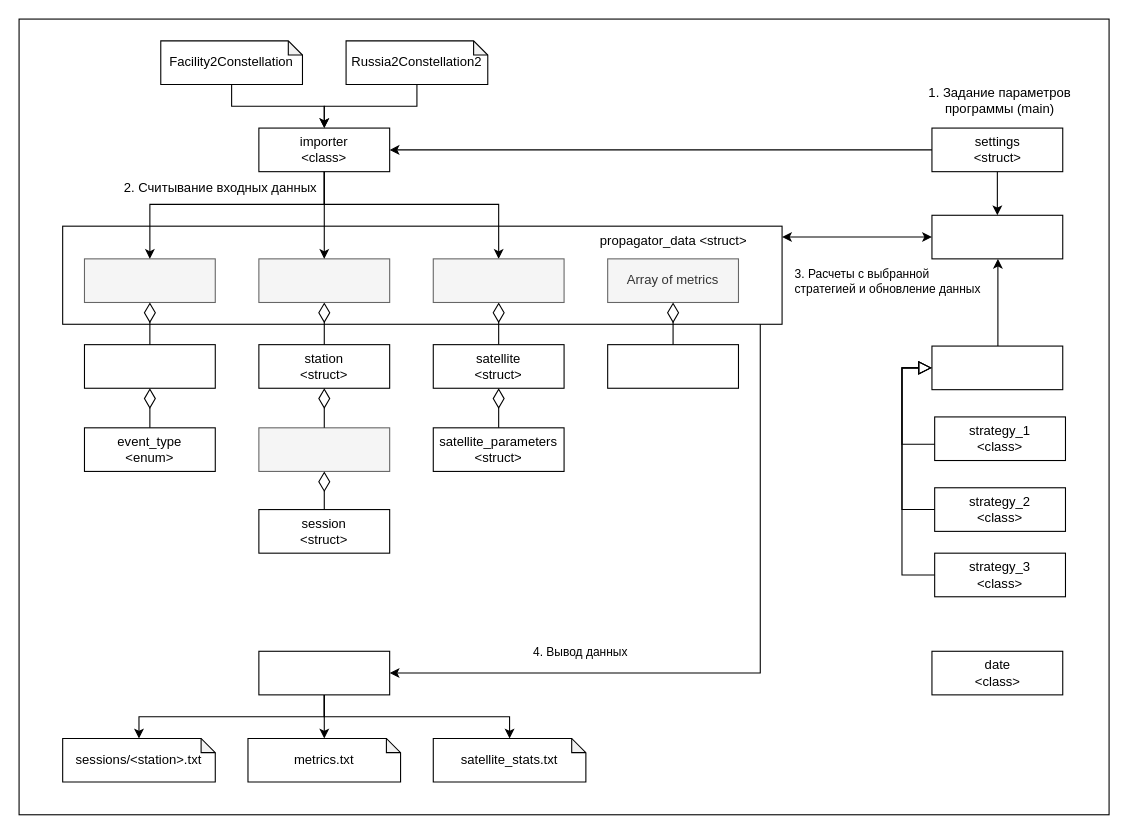
This 1128x834 diagram has some shape labels left out. The centre of each missing label's shape, as x and y in pixels:
Array of events: the point at 149,280
Array of satellites: the point at 498,280
Array of sessions: the point at 324,449
Array of stations: the point at 324,280
event <struct>: the point at 149,366
exporter <class>: the point at 324,672
metrica <struct>: the point at 672,366
propagator <class>: the point at 997,236
strategy <class>: the point at 997,367
